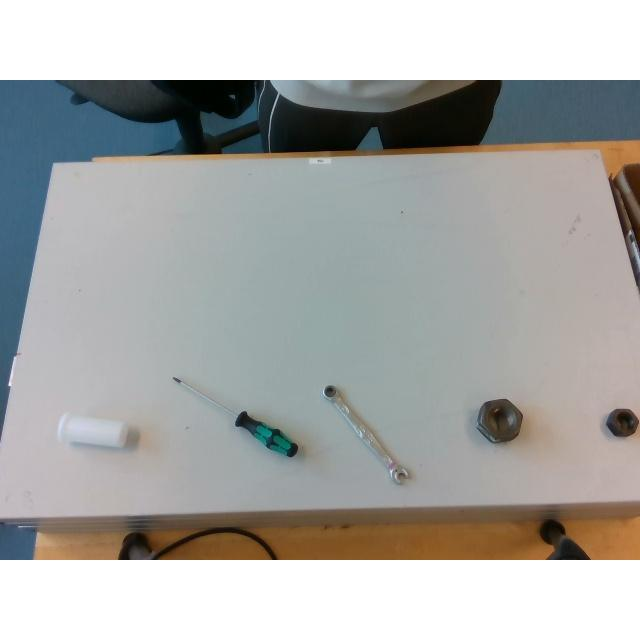M20: (606, 409, 638, 437)
M30: (474, 398, 522, 442)
Screwdriver: (172, 376, 300, 456)
Spacer: (58, 413, 130, 447)
Wrench: (321, 384, 409, 484)
